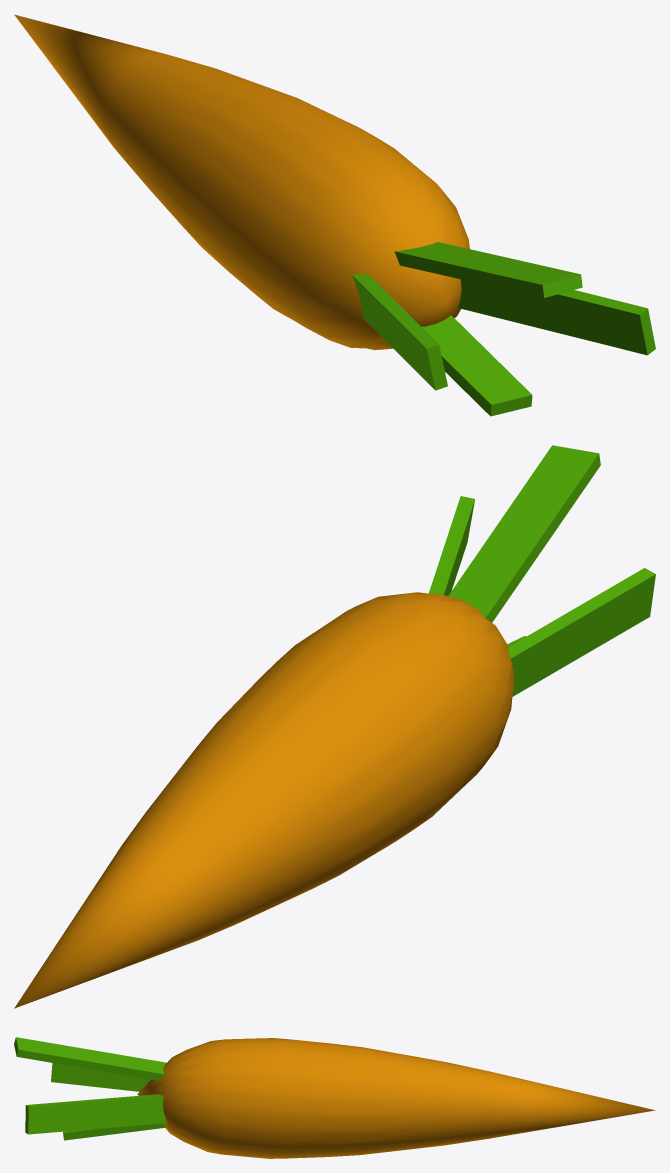
The model's file is carrot_normal.fbx.
3 renders of one model, top to bottom at view 1: azimuth 30°, elevation 25°; view 2: azimuth 150°, elevation 25°; view 3: azimuth 270°, elevation 25°, orthographic. The views are drawn at different scales.
Parts seen in each view (by area): view 1: pCone2; view 2: pCone2; view 3: pCone2.
Boxes of the visible parts, x1,y1,x2,y2 form: pCone2: (14,14,655,416); pCone2: (14,445,655,1008); pCone2: (14,1037,655,1158).
Bounding box in the file's own units: 1.55 × 1.36 × 6.9.
